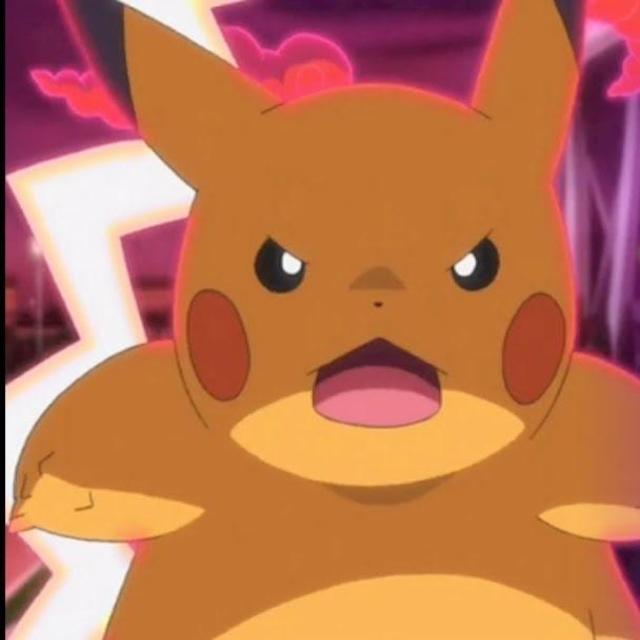pikachu: (10, 12, 639, 639)
